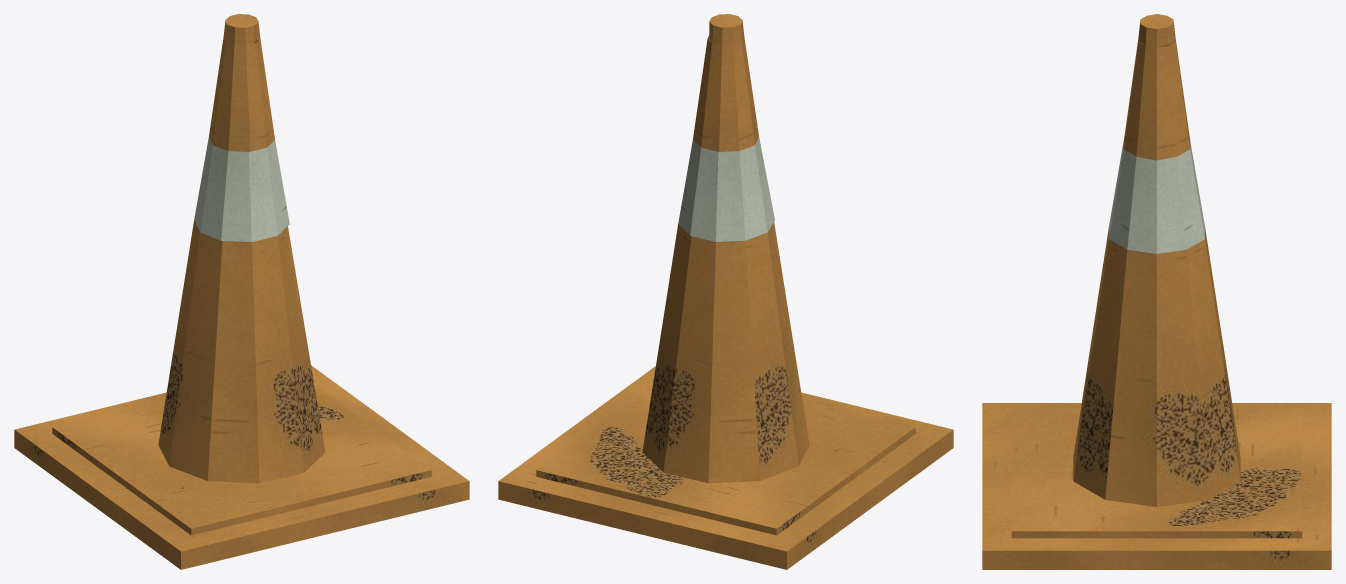
The picture shows the model from 3 angles, left to right: view 1: azimuth 30°, elevation 25°; view 2: azimuth 150°, elevation 25°; view 3: azimuth 270°, elevation 25°; orthographic projection. The views are drawn at different scales.
Parts seen in each view (by area): view 1: Variant_cone_1; view 2: Variant_cone_1; view 3: Variant_cone_1.
Part boxes in pixels (box(x1,y1,x2,y2)): Variant_cone_1: box(14, 14, 469, 569); Variant_cone_1: box(498, 14, 953, 569); Variant_cone_1: box(982, 14, 1331, 569).
Size of the model in its own units: 0.36 by 0.54 by 0.36.
Materials: 2 (2 with a texture image).
